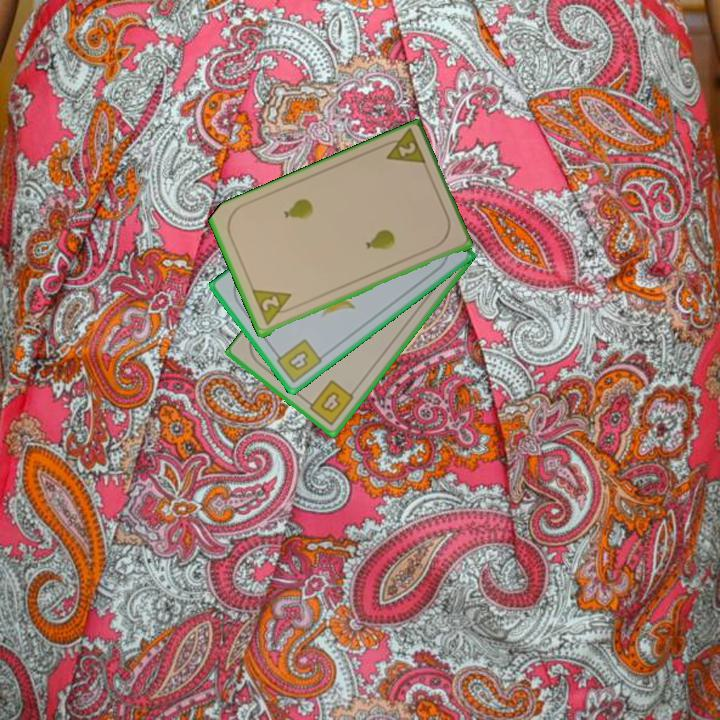2p: (377, 127, 429, 169), (248, 286, 298, 329)
4b: (302, 376, 357, 428), (270, 336, 325, 386)
